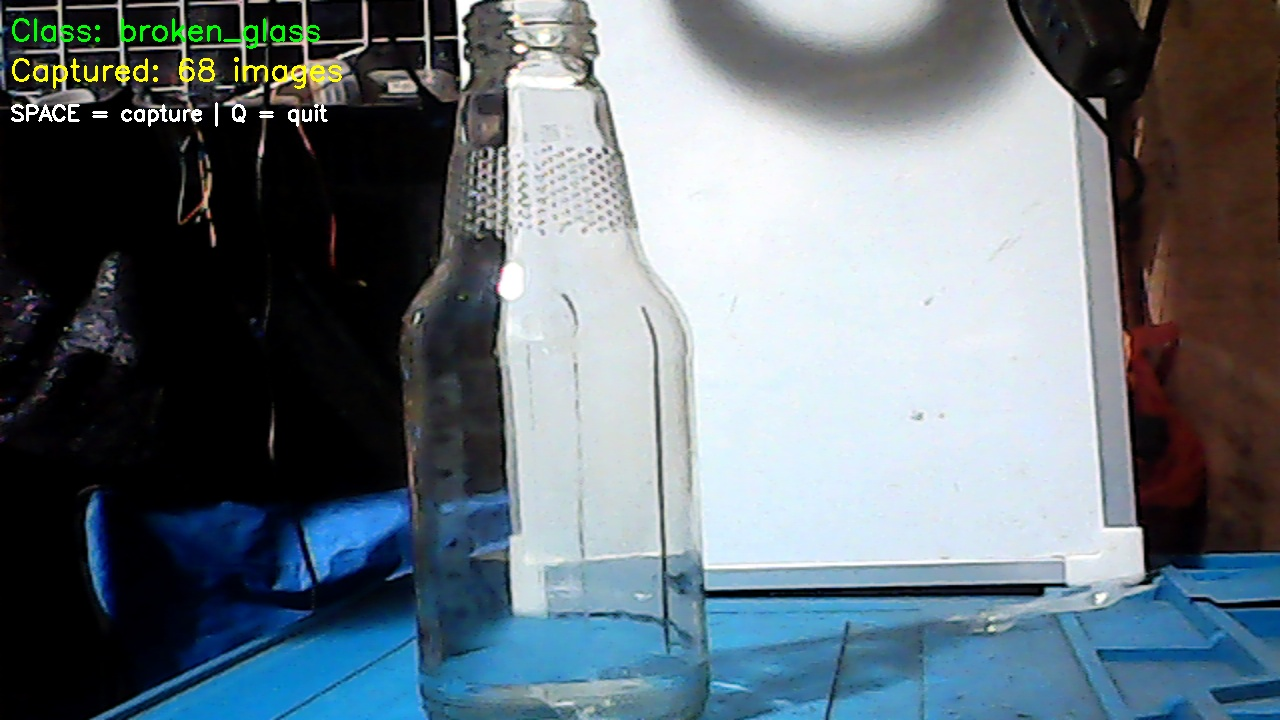broken_glass: (404, 13, 715, 720)
